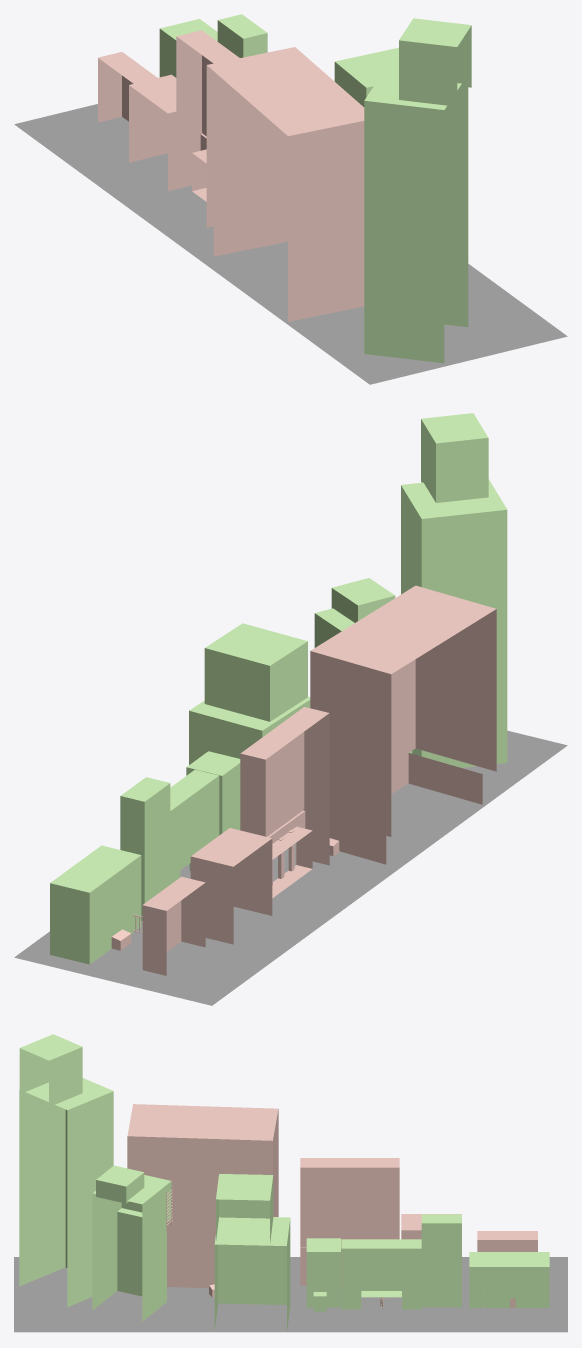
File: alley.fbx
3 views of the same model, one above another, from view 1: azimuth 30°, elevation 25°; view 2: azimuth 150°, elevation 25°; view 3: azimuth 270°, elevation 25° (orthographic). The views are drawn at different scales.
Parts seen in each view (by area): view 1: R_BLOCK3, BG_block2, pPlane1, theatre, R_BLOCK2, R_BLOCK1, L_block3, L_block2, L_block1; view 2: R_BLOCK3, pPlane1, BG_block2, theatre, L_block3, L_block1, R_BLOCK2, L_block2, R_BLOCK1, gallary, BG_block1, underground; view 3: pPlane1, BG_block2, R_BLOCK3, BG_block1, L_block3, theatre, gallary, L_block1, L_block2, underground, R_BLOCK1, R_BLOCK2.
Boxes of the visible parts, bbox=[...] form: R_BLOCK3: bbox=[206, 47, 364, 321]; BG_block2: bbox=[364, 18, 471, 363]; pPlane1: bbox=[14, 104, 567, 384]; theatre: bbox=[176, 30, 239, 201]; R_BLOCK2: bbox=[129, 74, 191, 191]; R_BLOCK1: bbox=[98, 52, 157, 122]; L_block3: bbox=[334, 47, 398, 106]; L_block2: bbox=[217, 14, 267, 57]; L_block1: bbox=[159, 19, 217, 77]; R_BLOCK3: bbox=[310, 585, 496, 864]; pPlane1: bbox=[14, 730, 567, 1005]; BG_block2: bbox=[401, 413, 507, 767]; theatre: bbox=[240, 707, 329, 898]; L_block3: bbox=[189, 623, 310, 764]; L_block1: bbox=[50, 845, 141, 964]; R_BLOCK2: bbox=[190, 828, 272, 944]; L_block2: bbox=[120, 777, 170, 920]; R_BLOCK1: bbox=[142, 876, 205, 975]; gallary: bbox=[170, 769, 219, 884]; BG_block1: bbox=[314, 578, 412, 753]; underground: bbox=[186, 751, 240, 835]; pPlane1: bbox=[14, 1257, 567, 1332]; BG_block2: bbox=[19, 1034, 113, 1307]; R_BLOCK3: bbox=[127, 1104, 278, 1288]; BG_block1: bbox=[92, 1165, 171, 1321]; L_block3: bbox=[214, 1174, 290, 1330]; theatre: bbox=[300, 1158, 399, 1285]; gallary: bbox=[341, 1239, 421, 1309]; L_block1: bbox=[469, 1252, 549, 1307]; L_block2: bbox=[421, 1214, 461, 1307]; underground: bbox=[306, 1238, 340, 1311]; R_BLOCK1: bbox=[477, 1231, 537, 1251]; R_BLOCK2: bbox=[401, 1214, 461, 1239].
Size of the model in its own units: 27.74 by 40.1 by 81.8.
